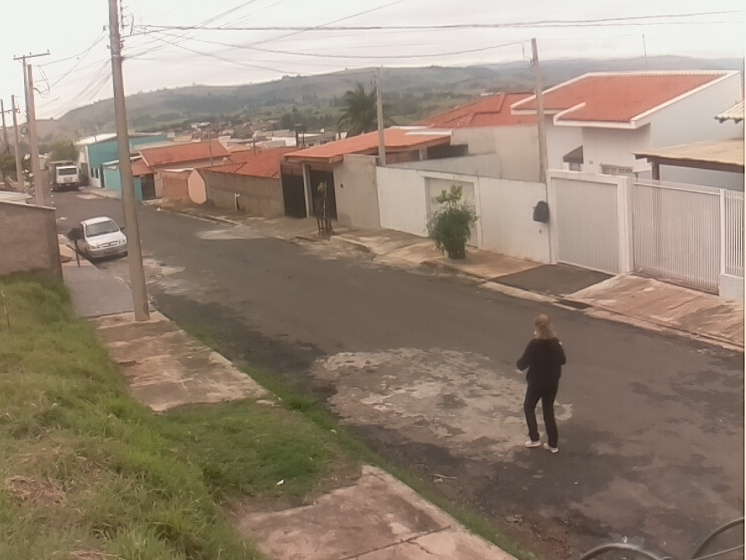person: (515, 313, 567, 453)
